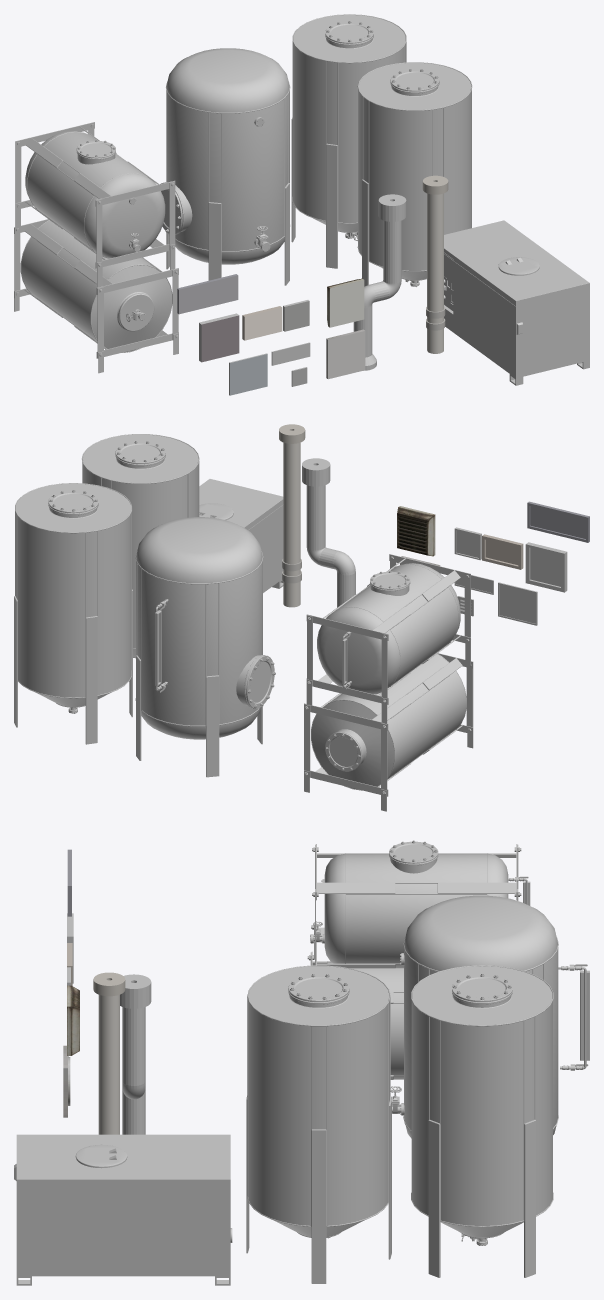
The model's file is Boiler Room.fbx.
3 views of the same model, one above another, from view 1: azimuth 30°, elevation 25°; view 2: azimuth 150°, elevation 25°; view 3: azimuth 270°, elevation 25° (orthographic). The views are drawn at different scales.
Parts seen in each view (by area): view 1: tank005, tank006.001, defaultMaterial, tank006.002, tank007, tank008, item158, item160, item027, item035, item010, item024 (+4 smaller); view 2: tank005, tank006.002, tank007, tank008, tank006.001, defaultMaterial, item160, item158, item027, item035, item024, item032 (+2 smaller); view 3: tank006.001, tank006.002, defaultMaterial, tank007, tank005, item158, item160, tank008, item024.
Boxes of the visible parts, bbox=[...] form: tank005: bbox=[160, 48, 290, 285]; tank006.001: bbox=[357, 62, 472, 286]; defaultMaterial: bbox=[444, 220, 589, 385]; tank006.002: bbox=[291, 14, 406, 268]; tank007: bbox=[15, 122, 175, 287]; tank008: bbox=[14, 219, 178, 373]; item158: bbox=[353, 194, 406, 370]; item160: bbox=[422, 175, 448, 353]; item027: bbox=[199, 313, 239, 362]; item035: bbox=[177, 274, 238, 314]; item010: bbox=[326, 329, 365, 379]; item024: bbox=[327, 278, 364, 327]; tank005: bbox=[135, 517, 275, 777]; tank006.002: bbox=[14, 483, 132, 744]; tank007: bbox=[306, 554, 470, 723]; tank008: bbox=[304, 653, 473, 811]; tank006.001: bbox=[82, 434, 199, 658]; defaultMaterial: bbox=[199, 479, 283, 592]; item160: bbox=[279, 424, 305, 607]; item158: bbox=[302, 458, 355, 607]; item027: bbox=[525, 542, 567, 592]; item035: bbox=[527, 501, 589, 542]; item024: bbox=[397, 506, 435, 556]; item032: bbox=[498, 582, 537, 625]; tank006.001: bbox=[246, 965, 391, 1283]; tank006.002: bbox=[411, 965, 553, 1277]; defaultMaterial: bbox=[14, 1134, 232, 1285]; tank007: bbox=[310, 840, 530, 968]; tank005: bbox=[390, 895, 589, 1138]; item158: bbox=[120, 974, 151, 1134]; item160: bbox=[93, 972, 125, 1134]; tank008: bbox=[307, 951, 403, 1079]; item024: bbox=[67, 985, 79, 1055].
Size of the model in its own units: 423 by 222 by 432.
